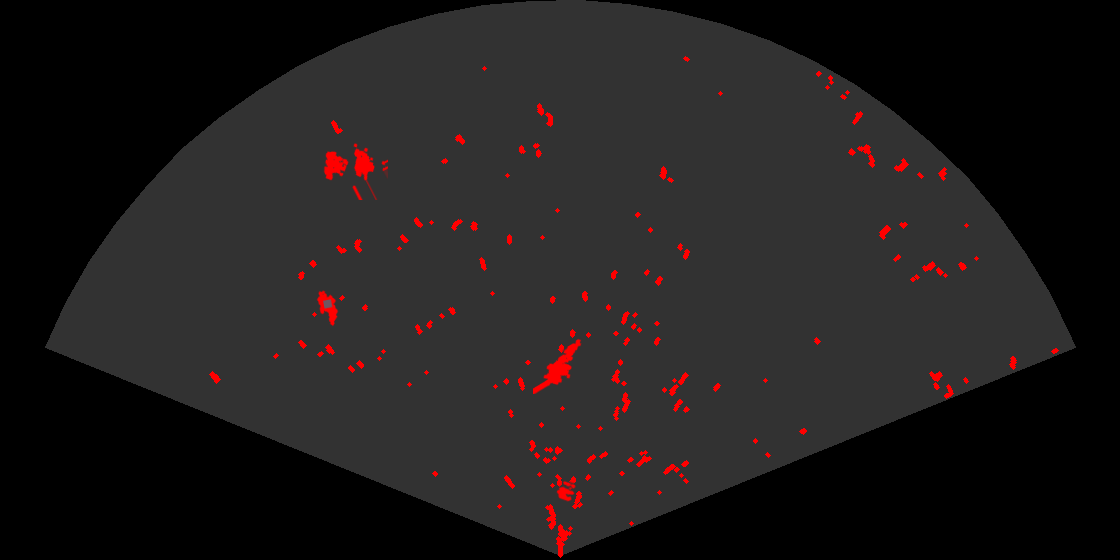AUV: (315, 289, 340, 328)
ball: (555, 479, 577, 503)
cage: (322, 142, 388, 200)
frogman: (533, 337, 583, 394)
